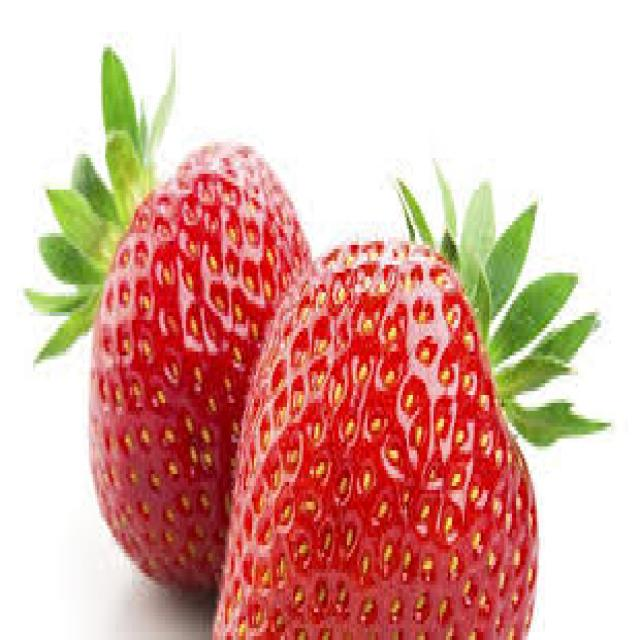Berries strawberries/blueberries: (313, 233, 551, 640), (79, 137, 223, 576)
